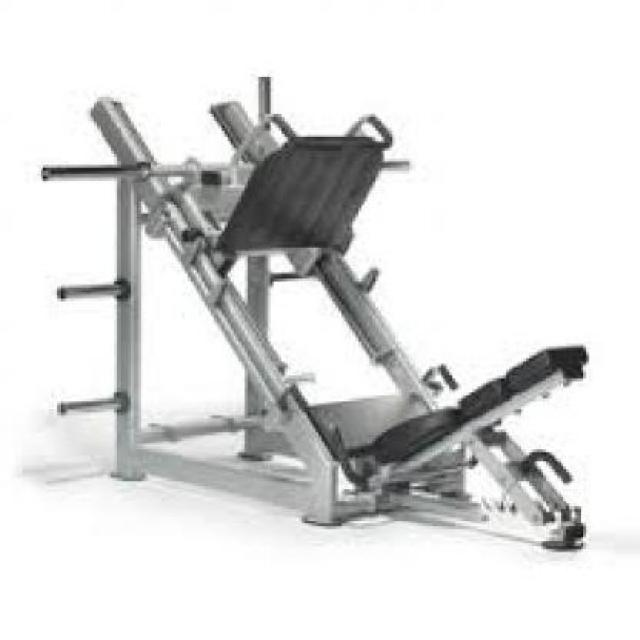leg press: (26, 70, 602, 572)
